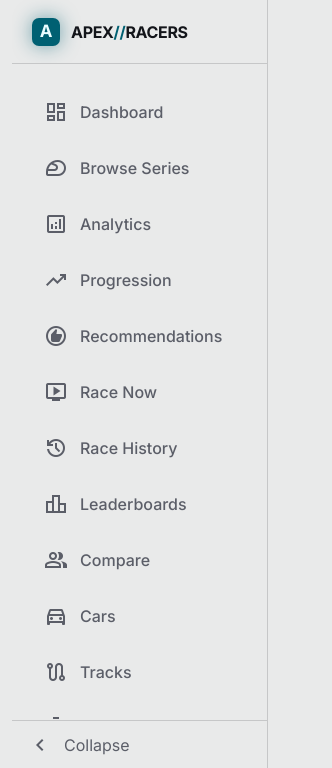
it: Sidebar › collapses to an icon rail and persists the choice
This screenshot has width=332, height=768.
Check: the link "Dashboard" is shown, box [44,98,164,126]
Click the button with aria-label "collapse sidebar".
click(140, 744)  # box [12,720,267,767]
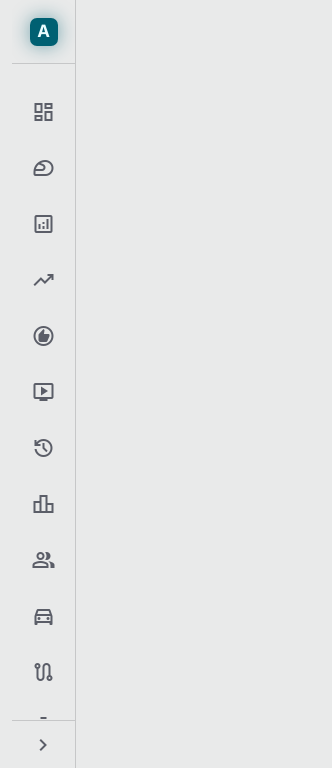
Check: the button named "expand sidebar" is shown, box [12,720,75,767]
